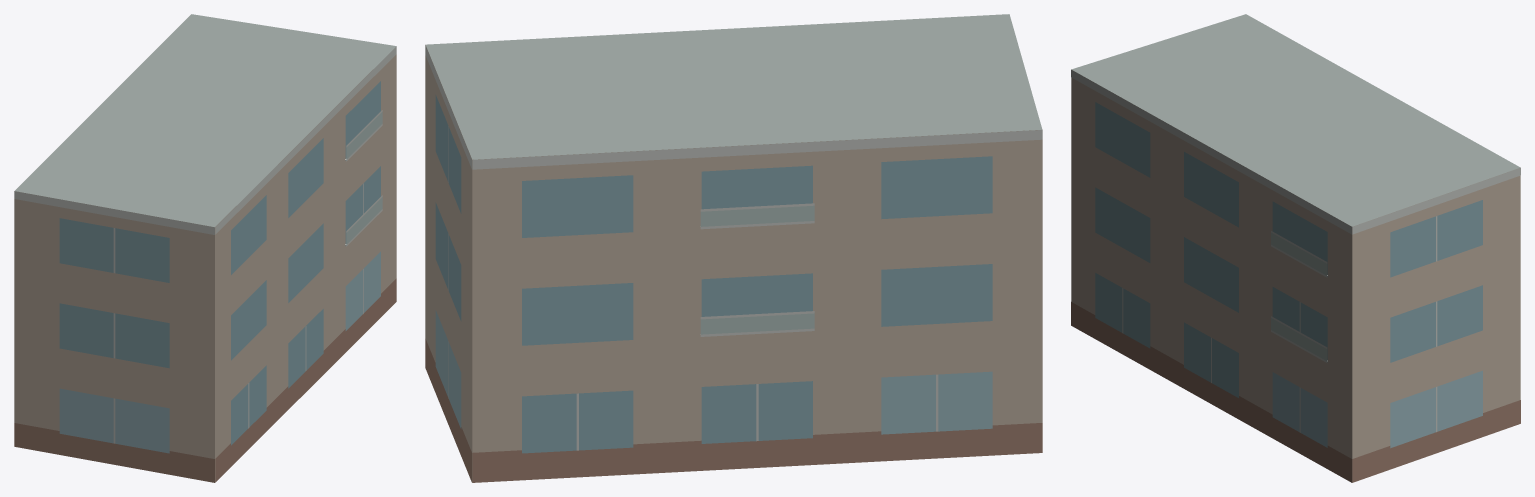
The model's file is survey-upis-32725733.glb.
3 views of the same model, side by side, from view 1: azimuth 30°, elevation 25°; view 2: azimuth 150°, elevation 25°; view 3: azimuth 270°, elevation 25° (orthographic). The views are drawn at different scales.
Visible parts, largest first — view 1: survey-upis-32725733.tmp; view 2: survey-upis-32725733.tmp; view 3: survey-upis-32725733.tmp.
Part boxes in pixels (x1,y1,x2,y2): survey-upis-32725733.tmp: (14, 14, 396, 482); survey-upis-32725733.tmp: (425, 14, 1042, 482); survey-upis-32725733.tmp: (1071, 14, 1520, 482).
Size of the model in its own units: 14.08 by 7.9 by 12.58.
